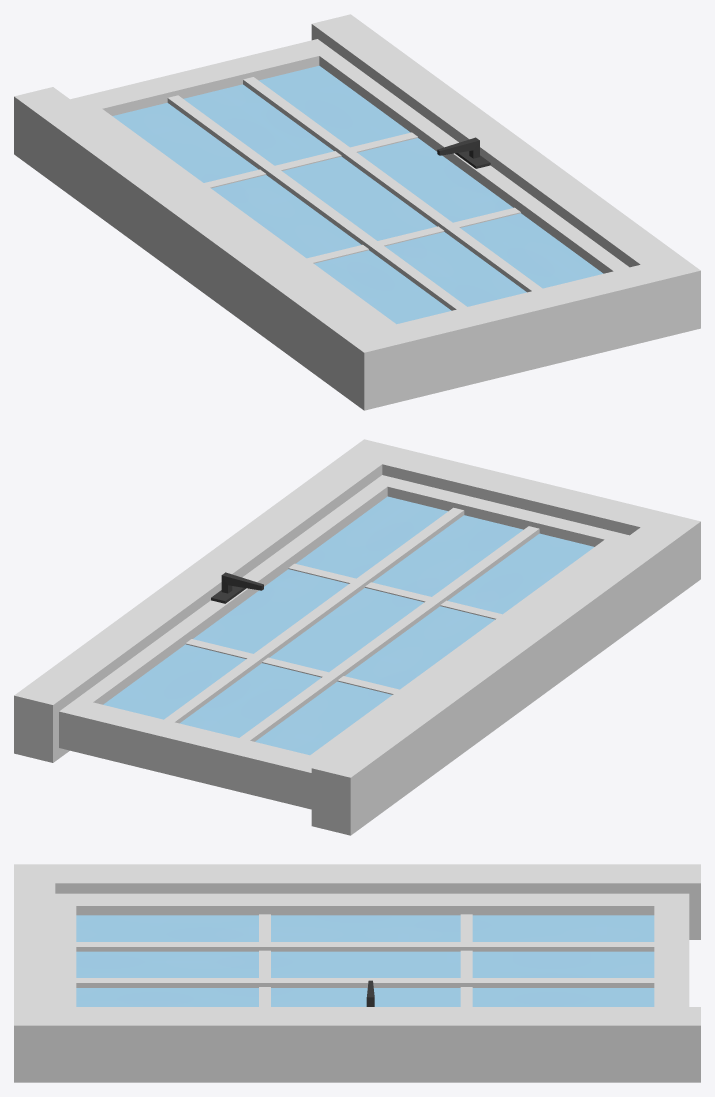
The model's file is door_a_closed.glb.
The picture shows the model from 3 angles, top to bottom: view 1: azimuth 30°, elevation 25°; view 2: azimuth 150°, elevation 25°; view 3: azimuth 270°, elevation 25°; orthographic projection.
Visible parts, largest first — view 1: door_001, door_a_closed; view 2: door_001, door_a_closed; view 3: door_a_closed, door_001.
Part boxes in pixels (x1,y1,x2,y2): door_001: [70, 39, 629, 327]; door_a_closed: [14, 14, 700, 410]; door_001: [59, 475, 629, 809]; door_a_closed: [14, 439, 700, 835]; door_a_closed: [14, 864, 700, 1082]; door_001: [55, 893, 689, 1006].
Size of the model in its own units: 1.34 by 0.2859 by 2.41.
1 material, 1 textured.
